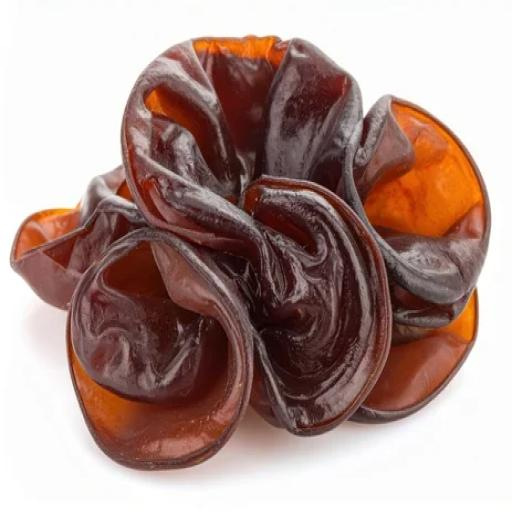Wood Ear Mushroom: (120, 29, 407, 440), (64, 233, 248, 479), (347, 80, 487, 335), (343, 246, 479, 440), (0, 155, 158, 299)
